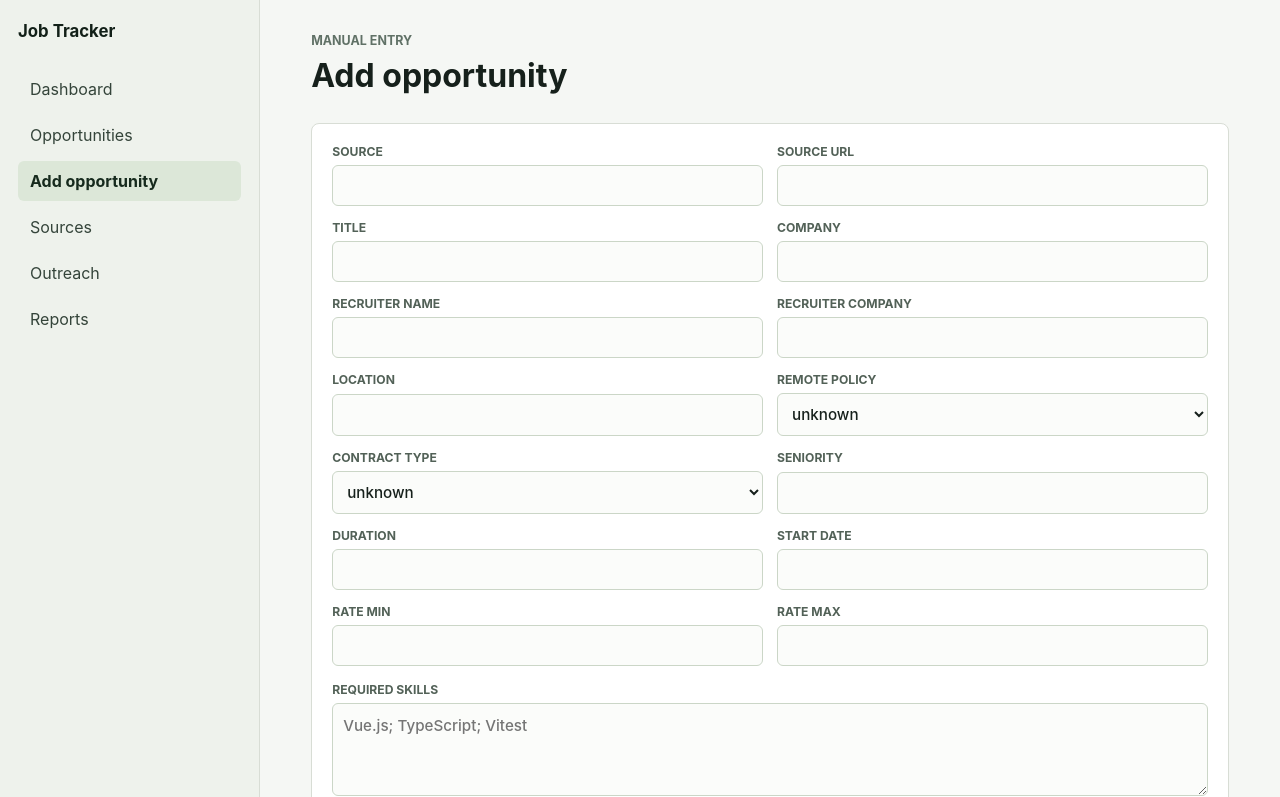
Root › creates an opportunity and navigates to its detail page
The image size is (1280, 797).
Type "Manual lead" into the field labelled "Source" at {"x": 548, "y": 186}, box top-left (332, 165), bottom-right (763, 206)
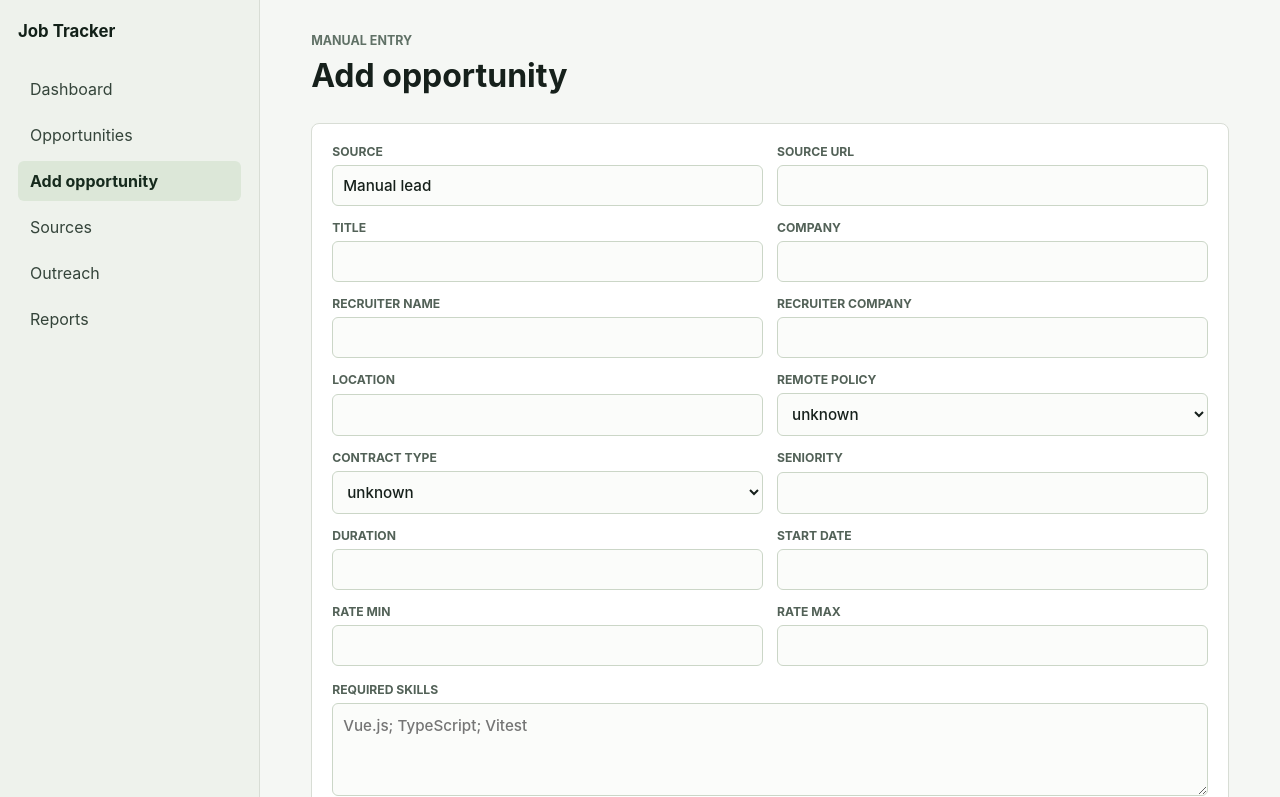
Type "Manual Vue opportunity" into the field labelled "Title" at {"x": 548, "y": 262}, box top-left (332, 241), bottom-right (763, 282)
(page scrolled)
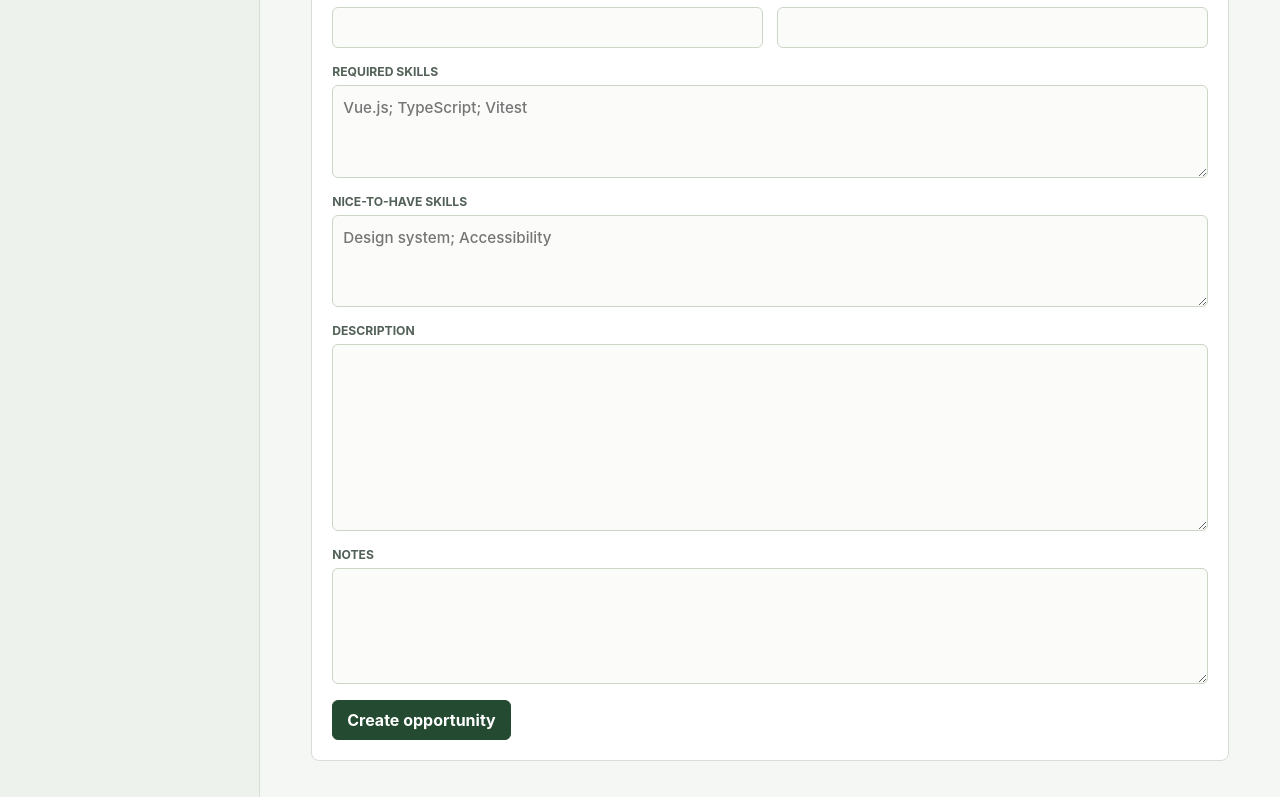
Type "Manual opportunity description." into the text box labelled "Description" at {"x": 770, "y": 438}, box top-left (332, 344), bottom-right (1208, 531)
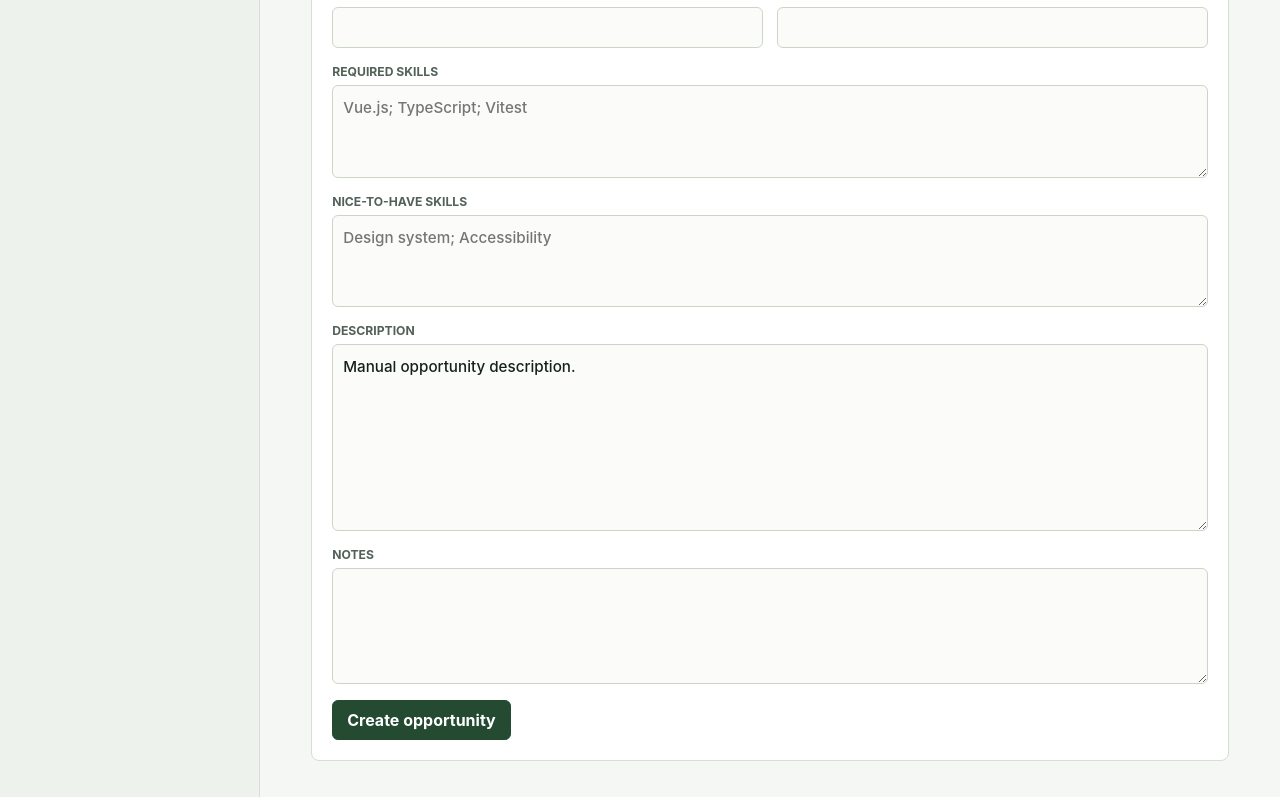
Click the button "Create opportunity" at {"x": 421, "y": 720}, box top-left (332, 700), bottom-right (511, 740)
(page scrolled)
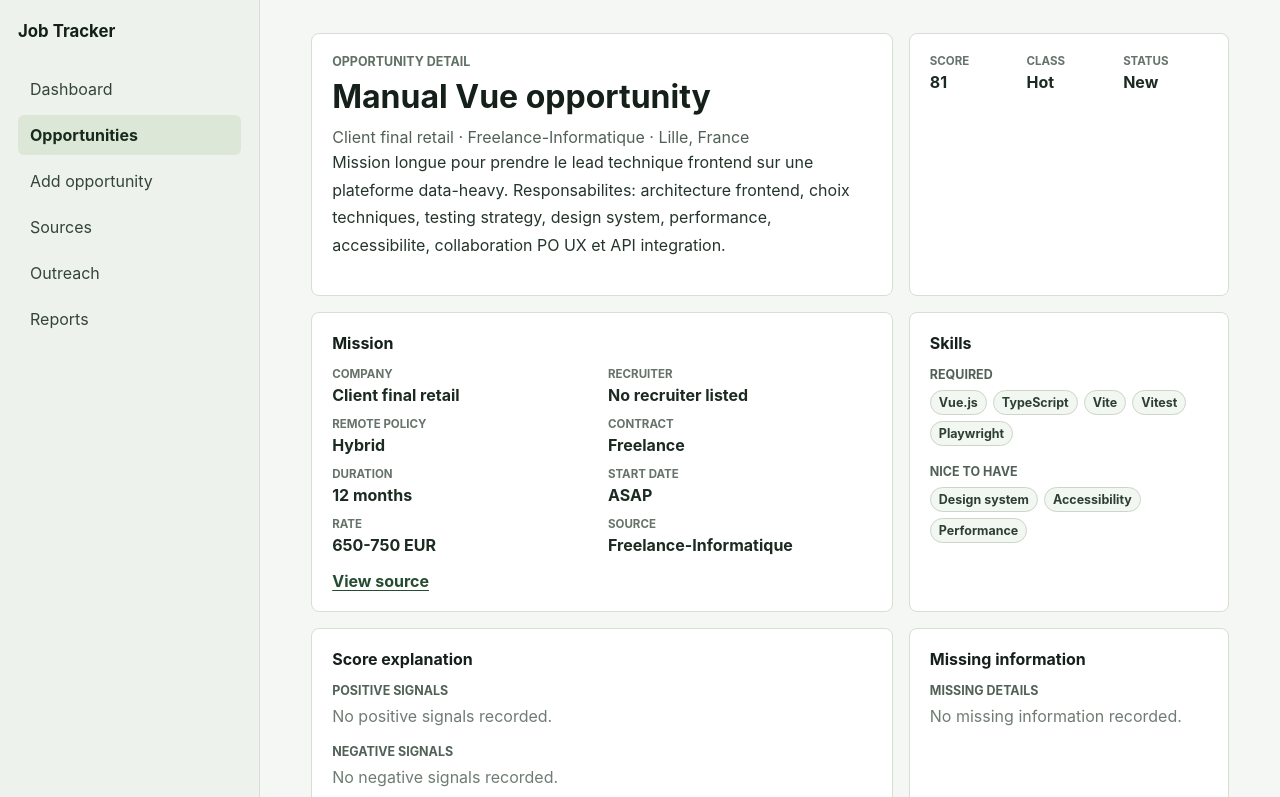
Check: the heading "Manual Vue opportunity" is shown, box top-left (332, 77), bottom-right (711, 116)
